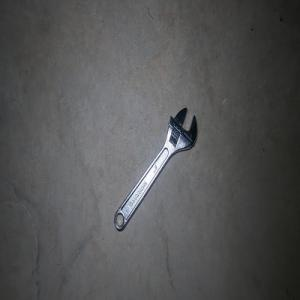Wrench: (114, 107, 197, 231)
